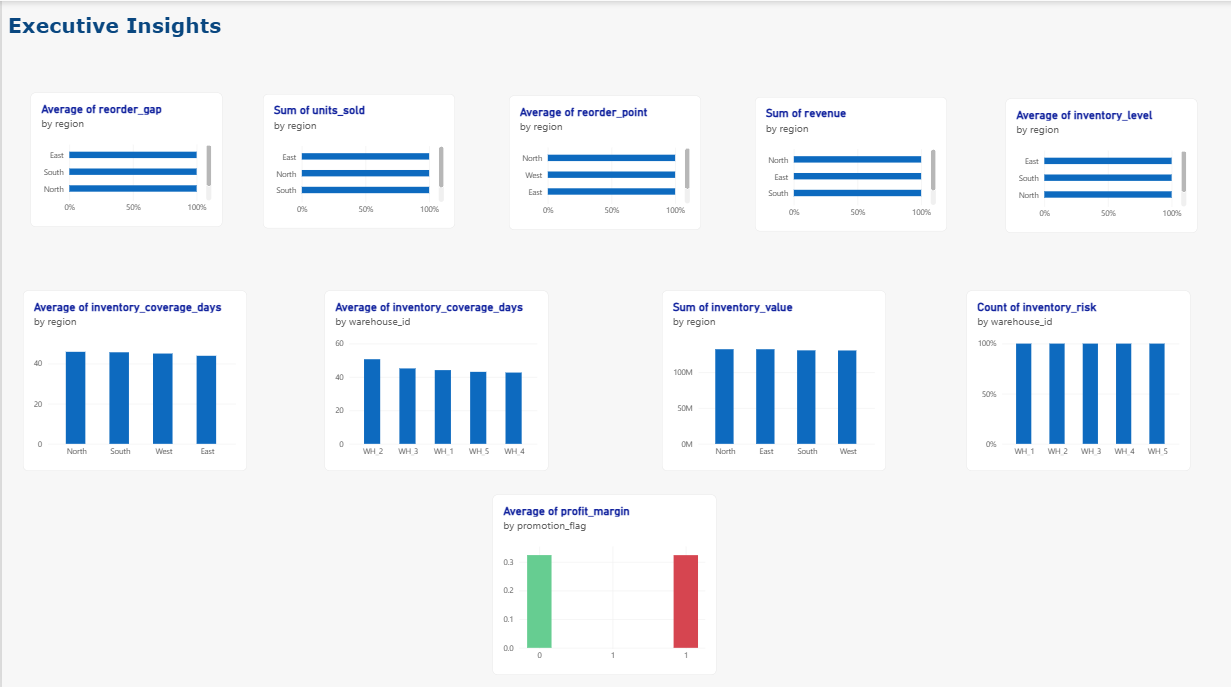

Layout of this report page (visuals, bound fields, positions):
{"tool":"powerbi","page":{"name":"Executive Insights","canvas":[1920,1080],"ordinal":5},"visuals":[{"type":"hundredPercentStackedColumnChart","fields":{"Category":["public supply_chain.warehouse_id"],"Y":["CountNonNull(public supply_chain.inventory_risk)"]},"box":[1507.5,452.5,350,282],"z":0},{"type":"clusteredColumnChart","fields":{"Category":["public supply_chain.warehouse_id"],"Y":["Avg(public supply_chain.inventory_coverage_days)"]},"box":[504.1,452.5,350,282],"z":1},{"type":"clusteredColumnChart","fields":{"Category":["public supply_chain.promotion_flag"],"Y":["Avg(public supply_chain.profit_margin)"]},"box":[766.6,771.3,350,282],"z":2},{"type":"clusteredColumnChart","fields":{"Category":["public supply_chain.region"],"Y":["Avg(public supply_chain.inventory_coverage_days)"]},"box":[32.8,452.5,350,282],"z":3},{"type":"clusteredColumnChart","fields":{"Category":["public supply_chain.region"],"Y":["Sum(public supply_chain.inventory_value)"]},"box":[1031.6,452.5,350,282],"z":4},{"type":"hundredPercentStackedBarChart","fields":{"Category":["public supply_chain.region"],"Y":["Avg(public supply_chain.reorder_gap)"]},"box":[45.3,142.2,300,210],"z":5},{"type":"hundredPercentStackedBarChart","fields":{"Category":["public supply_chain.region"],"Y":["Sum(public supply_chain.revenue)"]},"box":[1177.7,149.3,300,210],"z":6},{"type":"hundredPercentStackedBarChart","fields":{"Category":["public supply_chain.region"],"Y":["Avg(public supply_chain.inventory_level)"]},"box":[1569.2,151.6,300,210],"z":7},{"type":"hundredPercentStackedBarChart","fields":{"Category":["public supply_chain.region"],"Y":["Avg(public supply_chain.reorder_point)"]},"box":[793.2,146.9,300,210],"z":8},{"type":"hundredPercentStackedBarChart","fields":{"Category":["public supply_chain.region"],"Y":["Sum(public supply_chain.units_sold)"]},"box":[408.7,144.6,300,210],"z":9},{"type":"textbox","box":[9.4,18.8,665.8,86.7],"z":10}]}

Visuals, with their boxes in screenshot pixels (x1, y1, x2, y2), scaled from the page's 1920x1080 canvas onto the 1231x687 screenshot:
hundredPercentStackedColumnChart - public supply_chain.warehouse_id x CountNonNull(public supply_chain.inventory_risk): [x1=967, y1=288, x2=1191, y2=467]
clusteredColumnChart - public supply_chain.warehouse_id x Avg(public supply_chain.inventory_coverage_days): [x1=323, y1=288, x2=548, y2=467]
clusteredColumnChart - public supply_chain.promotion_flag x Avg(public supply_chain.profit_margin): [x1=492, y1=491, x2=716, y2=670]
clusteredColumnChart - public supply_chain.region x Avg(public supply_chain.inventory_coverage_days): [x1=21, y1=288, x2=245, y2=467]
clusteredColumnChart - public supply_chain.region x Sum(public supply_chain.inventory_value): [x1=661, y1=288, x2=886, y2=467]
hundredPercentStackedBarChart - public supply_chain.region x Avg(public supply_chain.reorder_gap): [x1=29, y1=90, x2=221, y2=224]
hundredPercentStackedBarChart - public supply_chain.region x Sum(public supply_chain.revenue): [x1=755, y1=95, x2=947, y2=229]
hundredPercentStackedBarChart - public supply_chain.region x Avg(public supply_chain.inventory_level): [x1=1006, y1=96, x2=1198, y2=230]
hundredPercentStackedBarChart - public supply_chain.region x Avg(public supply_chain.reorder_point): [x1=509, y1=93, x2=701, y2=227]
hundredPercentStackedBarChart - public supply_chain.region x Sum(public supply_chain.units_sold): [x1=262, y1=92, x2=454, y2=226]
textbox: [x1=6, y1=12, x2=433, y2=67]
